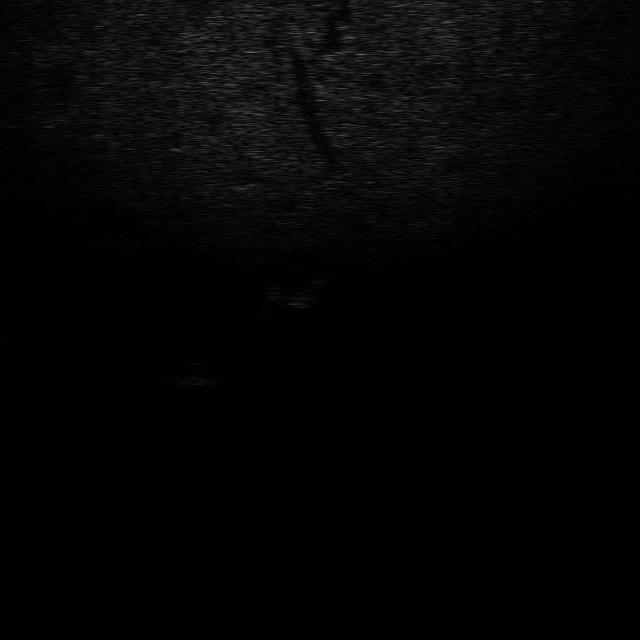ball: (173, 354, 225, 391)
human body: (260, 278, 329, 316)
